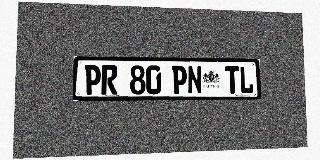0: (146, 65, 161, 94)
8: (130, 65, 145, 94)
L: (239, 66, 254, 94)
N: (187, 66, 202, 94)
P: (84, 65, 101, 95), (172, 65, 187, 94)
R: (101, 65, 117, 95)
T: (225, 66, 239, 94)
